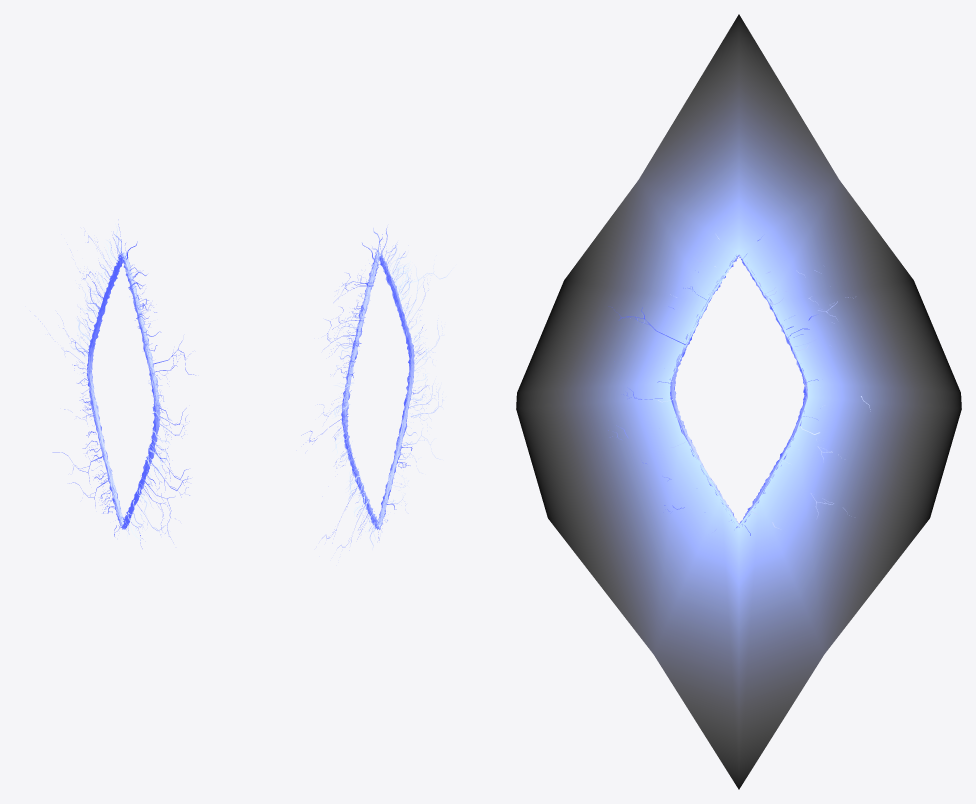
File: rift.glb
3 renders of one model, left to right at view 1: azimuth 30°, elevation 25°; view 2: azimuth 150°, elevation 25°; view 3: azimuth 270°, elevation 25°, orthographic.
Parts seen in each view (by area): view 1: Rift; view 2: Rift; view 3: Rift.
Part boxes in pixels (x1,y1,x2,y2): Rift: [30, 219, 195, 548]; Rift: [301, 227, 451, 550]; Rift: [516, 14, 961, 789].
Size of the model in its own units: 0.197 by 6.09 by 3.17.
Materials: 2 (1 with a texture image).
